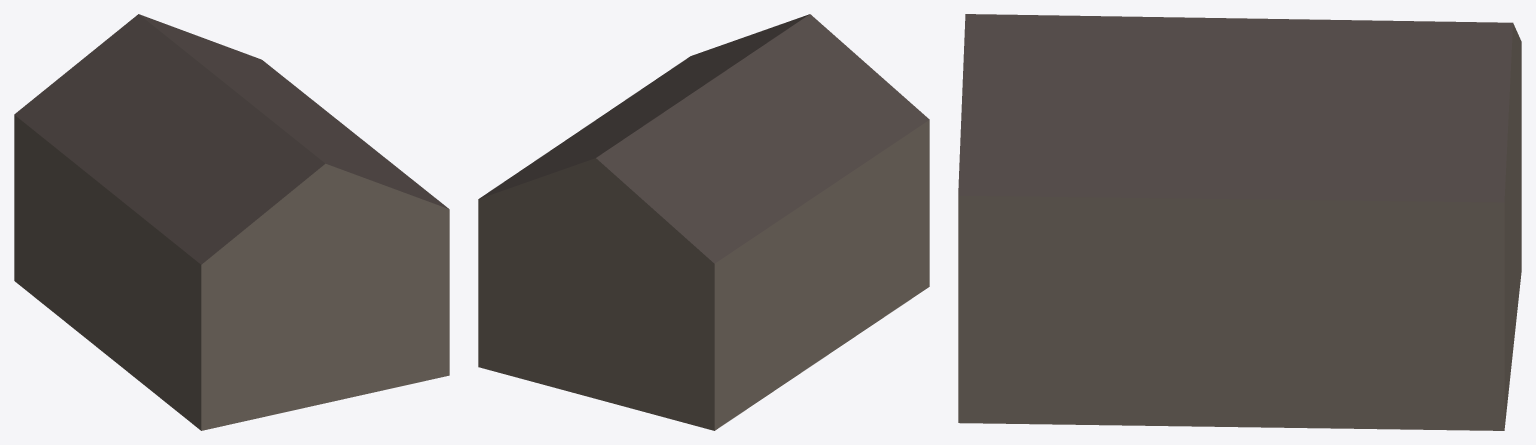
3 views of the same model, side by side, from view 1: azimuth 30°, elevation 25°; view 2: azimuth 150°, elevation 25°; view 3: azimuth 270°, elevation 25° (orthographic). The views are drawn at different scales.
Visible parts, largest first — view 1: HP-w859078993; view 2: HP-w859078993; view 3: HP-w859078993.
Part boxes in pixels (bbox=[...]): HP-w859078993: bbox=[14, 14, 449, 430]; HP-w859078993: bbox=[478, 14, 929, 430]; HP-w859078993: bbox=[958, 14, 1521, 430].
Bounding box in the file's own units: 14.45 × 12.98 × 20.22.
